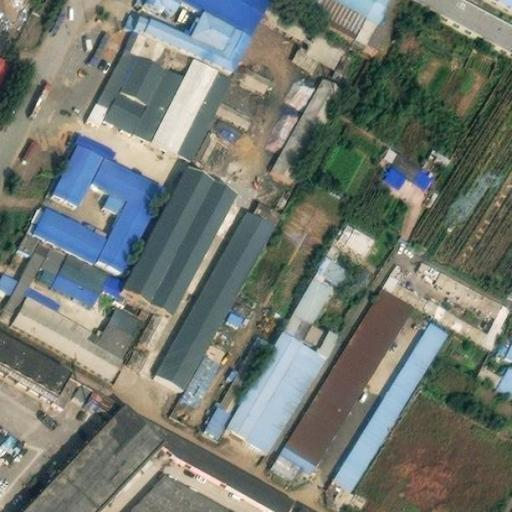building: (271, 284, 413, 479), (157, 194, 279, 379), (326, 315, 449, 495), (15, 396, 164, 512), (119, 163, 235, 311), (134, 404, 294, 509), (225, 324, 325, 447), (381, 255, 511, 342), (11, 288, 145, 371), (90, 21, 184, 135), (125, 0, 249, 67), (96, 158, 171, 268), (154, 50, 234, 153), (270, 73, 346, 181), (204, 330, 273, 434), (281, 247, 346, 350), (0, 223, 71, 315), (123, 468, 238, 512), (169, 333, 227, 415), (32, 197, 108, 257), (53, 135, 122, 198), (51, 245, 124, 301), (427, 0, 512, 46), (307, 0, 378, 33), (383, 139, 431, 181), (259, 103, 300, 152), (82, 26, 120, 72), (11, 134, 47, 177), (132, 308, 165, 350), (336, 215, 376, 249), (215, 92, 255, 124), (232, 59, 268, 88), (479, 358, 512, 388), (497, 325, 512, 353)
